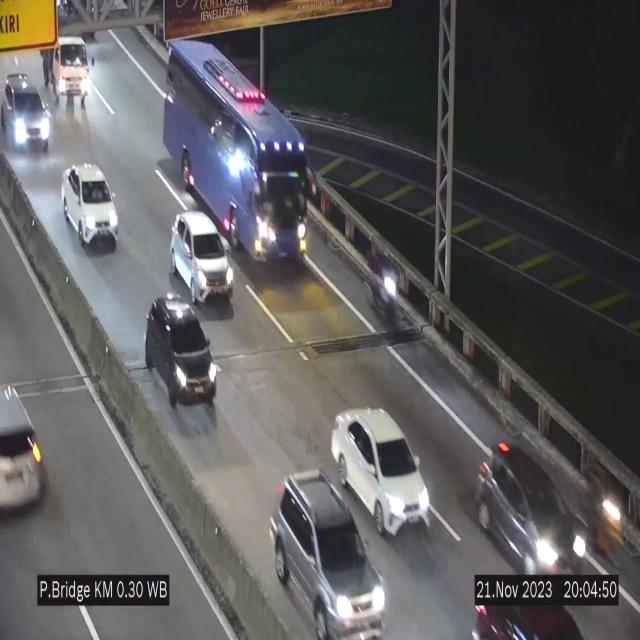Bus: (164, 39, 308, 267)
Car: (270, 472, 386, 638), (476, 445, 586, 571), (332, 408, 430, 534), (146, 294, 216, 438), (470, 558, 584, 640), (0, 362, 42, 530), (170, 213, 234, 303), (62, 163, 118, 248), (2, 73, 52, 156)
Motorcycle: (584, 460, 623, 563), (364, 238, 400, 334)
Truck: (38, 9, 96, 99)
